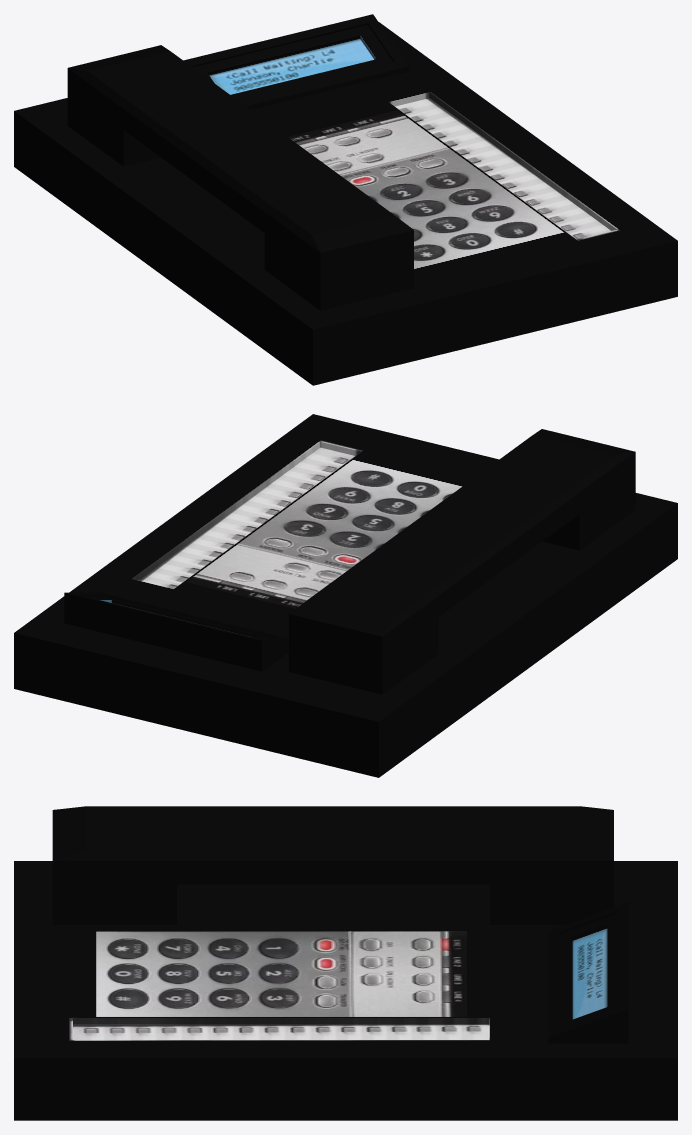
File: phone.fbx
3 views of the same model, one above another, from view 1: azimuth 30°, elevation 25°; view 2: azimuth 150°, elevation 25°; view 3: azimuth 270°, elevation 25° (orthographic). The views are drawn at different scales.
Parts seen in each view (by area): view 1: Phone; view 2: Phone; view 3: Phone.
Part boxes in pixels (x1,y1,x2,y2): Phone: (14,14,677,385); Phone: (14,414,677,777); Phone: (14,806,677,1120).
Size of the model in its own units: 141 by 44.23 by 200.
